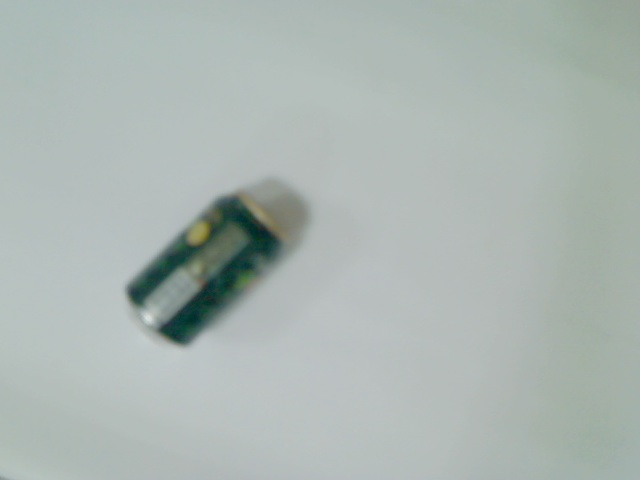can: (125, 189, 294, 350)
